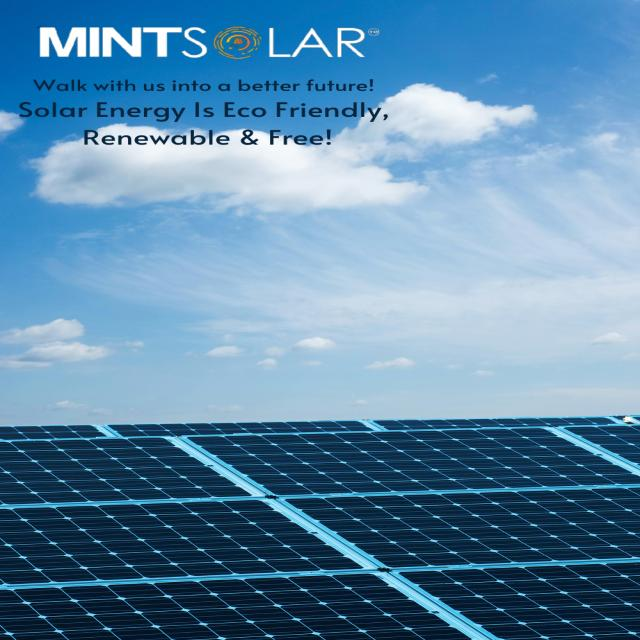clean-solar-panel: (2, 416, 639, 640)
